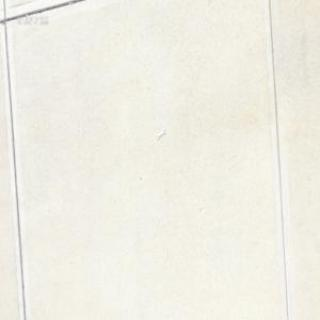Wrenchtrack_idkeyframe: (156, 128, 164, 139)
